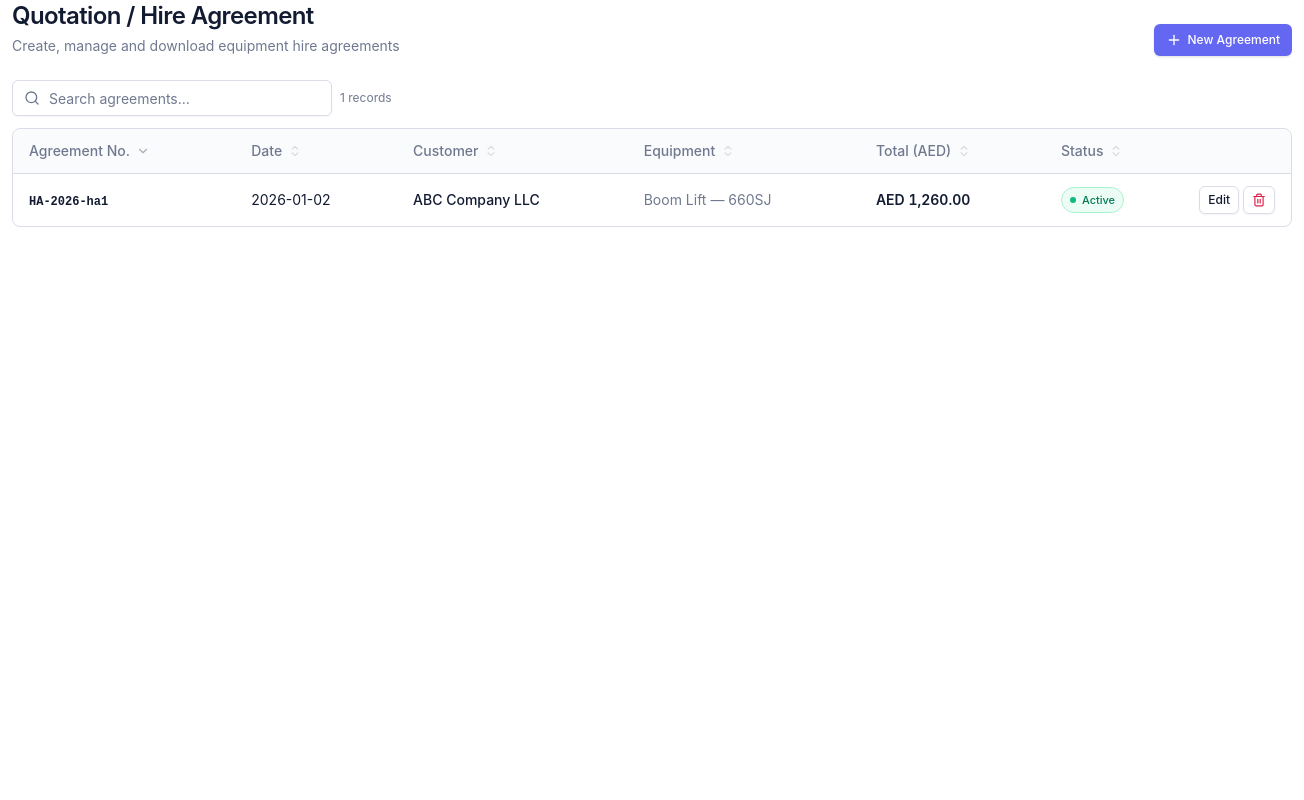
HireAgreementPage (API) › sends the row version as the update precondition and shows the server totals after the save
Click the button "Edit" at (1219, 200), box 1199,186 -> 1239,214
(page scrolled)
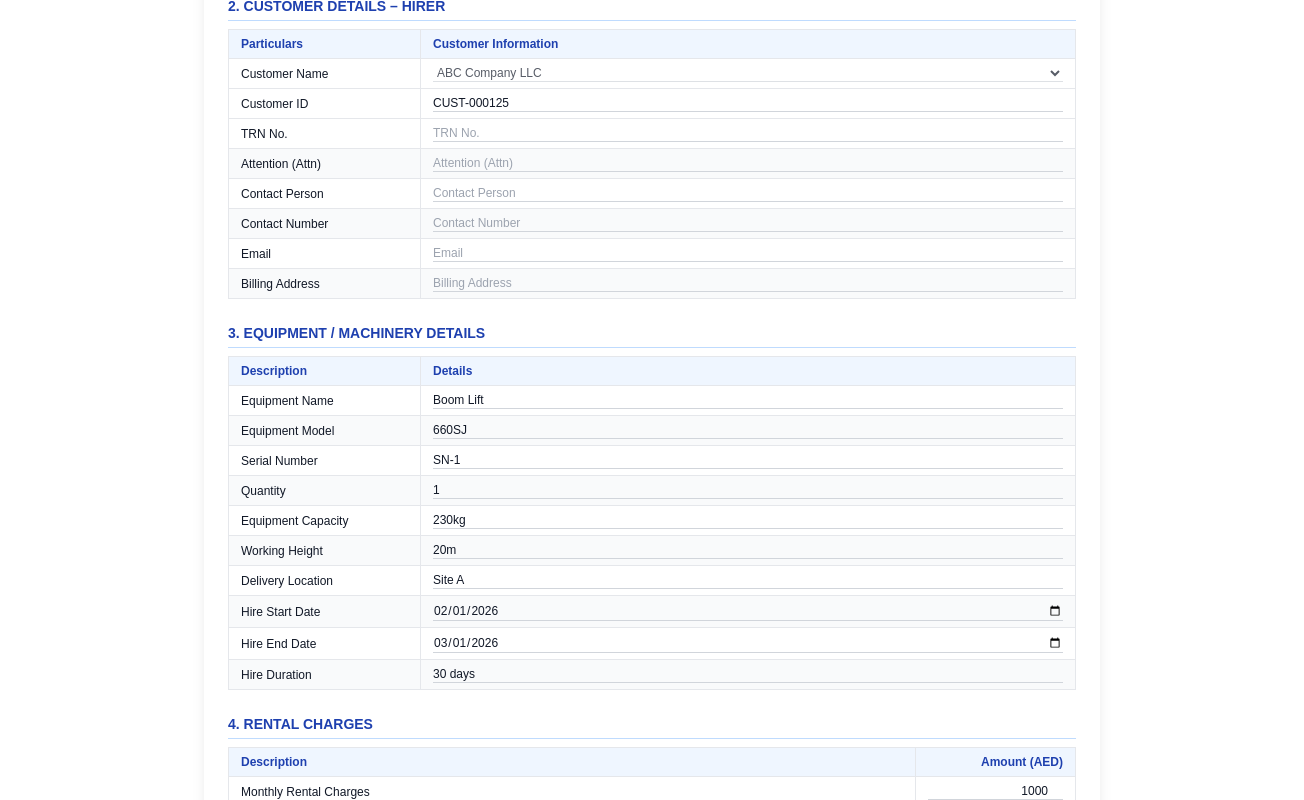
Replace the text in the field with placeholder "Equipment Name" next to "Equipment Name" with "Scissor Lift" at (748, 400), box 433,392 -> 1063,409
(page scrolled)
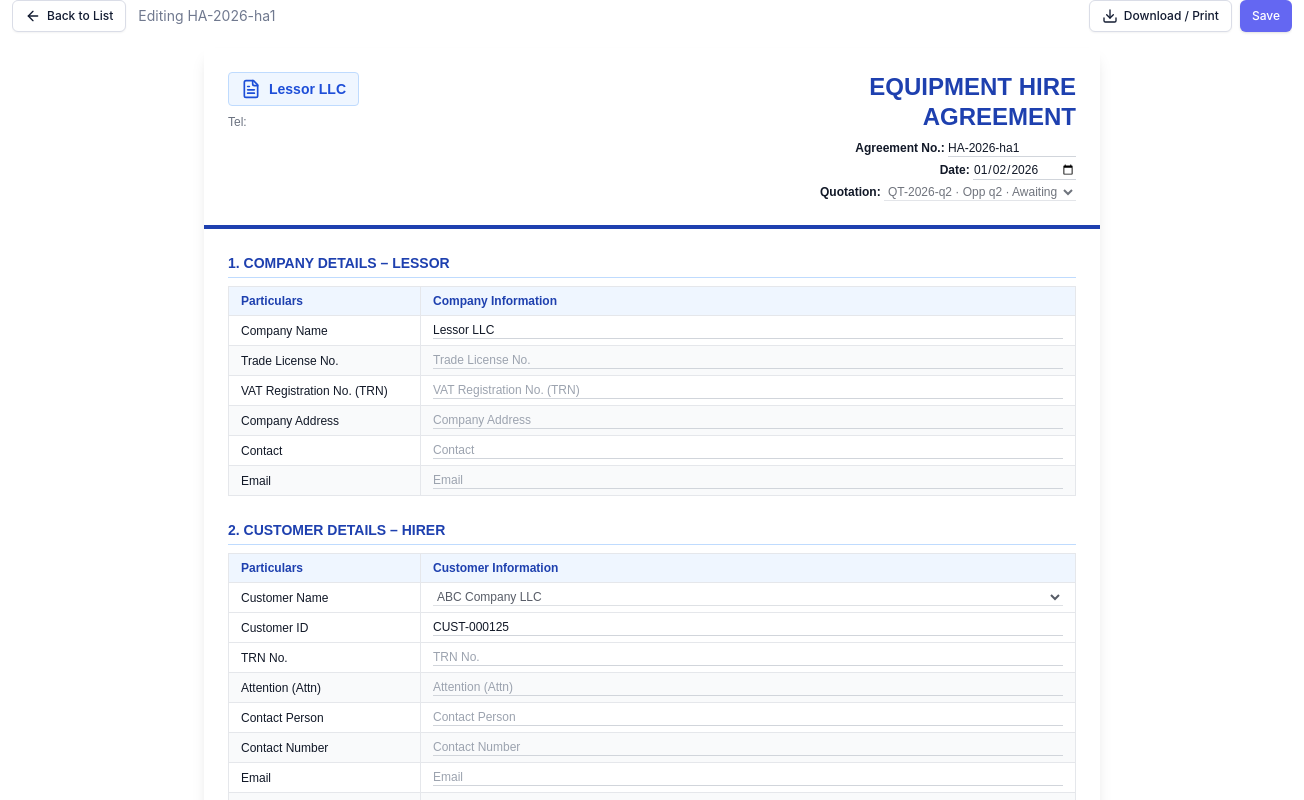
Click the button "Save" at (1266, 16), box 1240,0 -> 1292,32
(page scrolled)
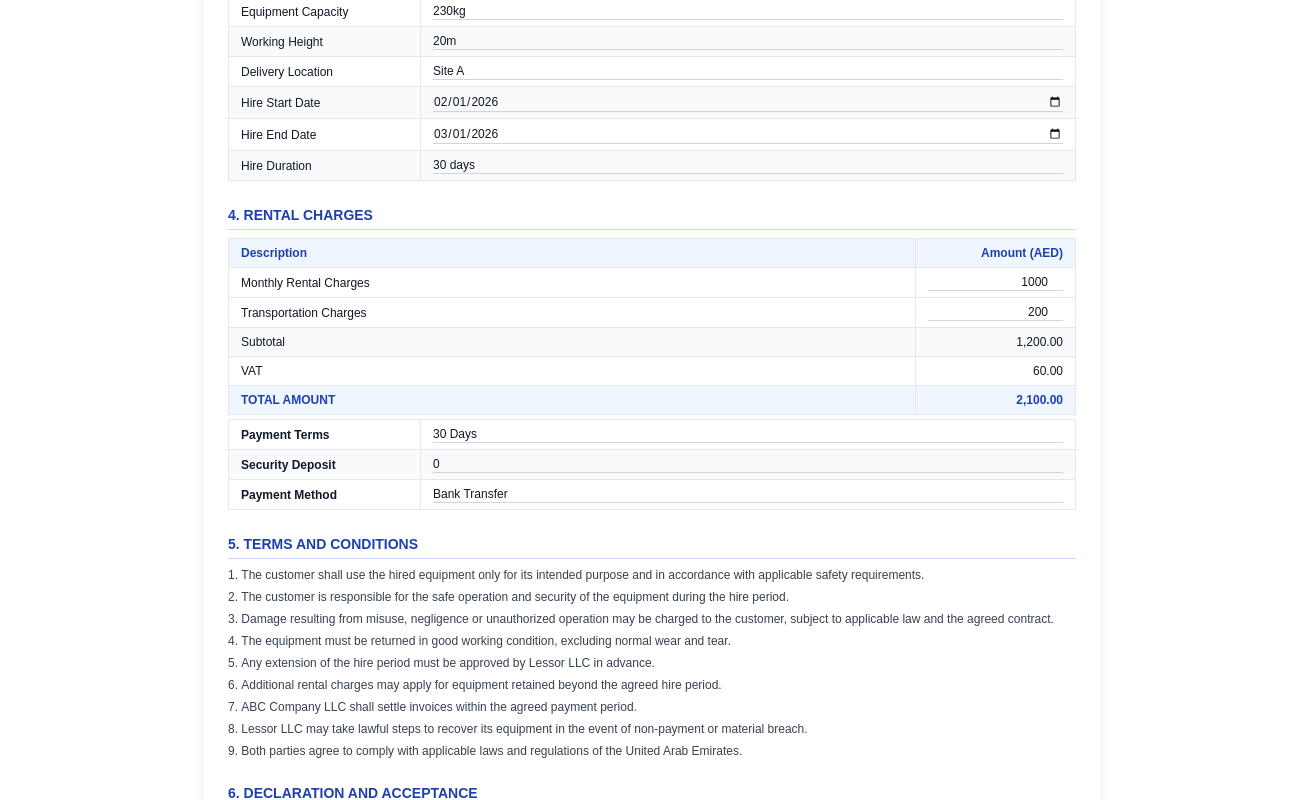
Check: the cell with test id "agreement-total" reads "2,100.00", box 1016,393 -> 1063,407
